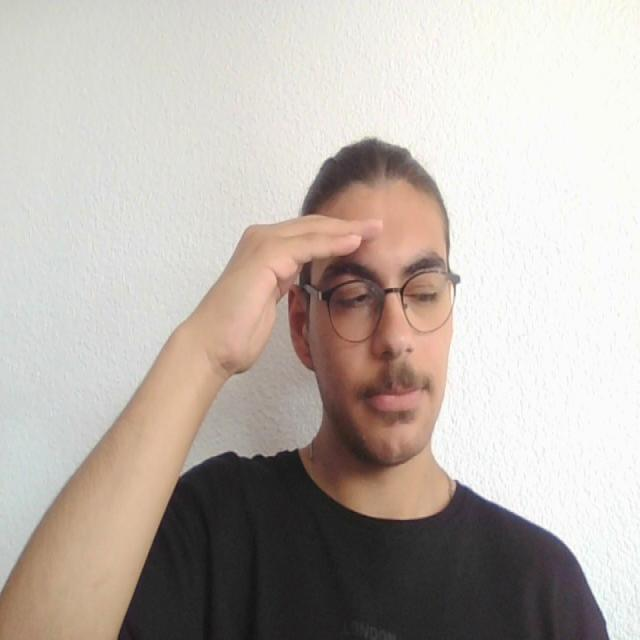Merhaba: (196, 176, 386, 444)
